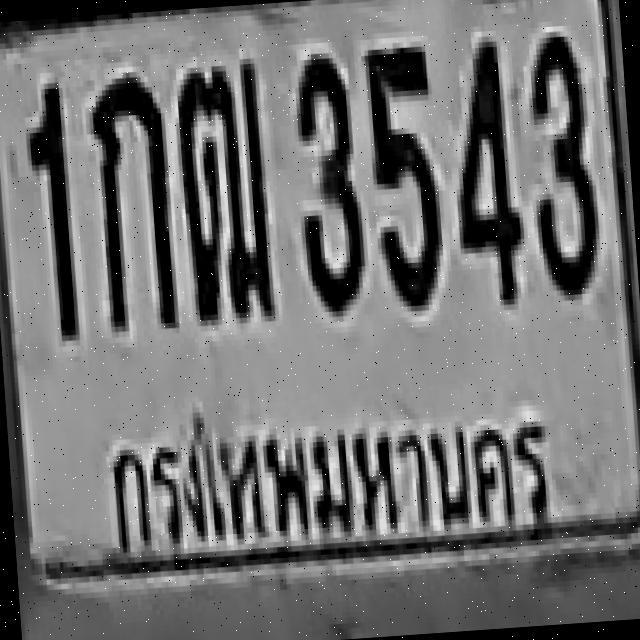1: (22, 80, 79, 340)
10GorGai: (86, 70, 175, 332)
27ThorPhuThao: (171, 55, 271, 324)
3: (522, 27, 602, 300), (288, 45, 364, 312)
4: (445, 32, 525, 304)
5: (360, 40, 442, 308)
Bangkok: (99, 375, 562, 572)
